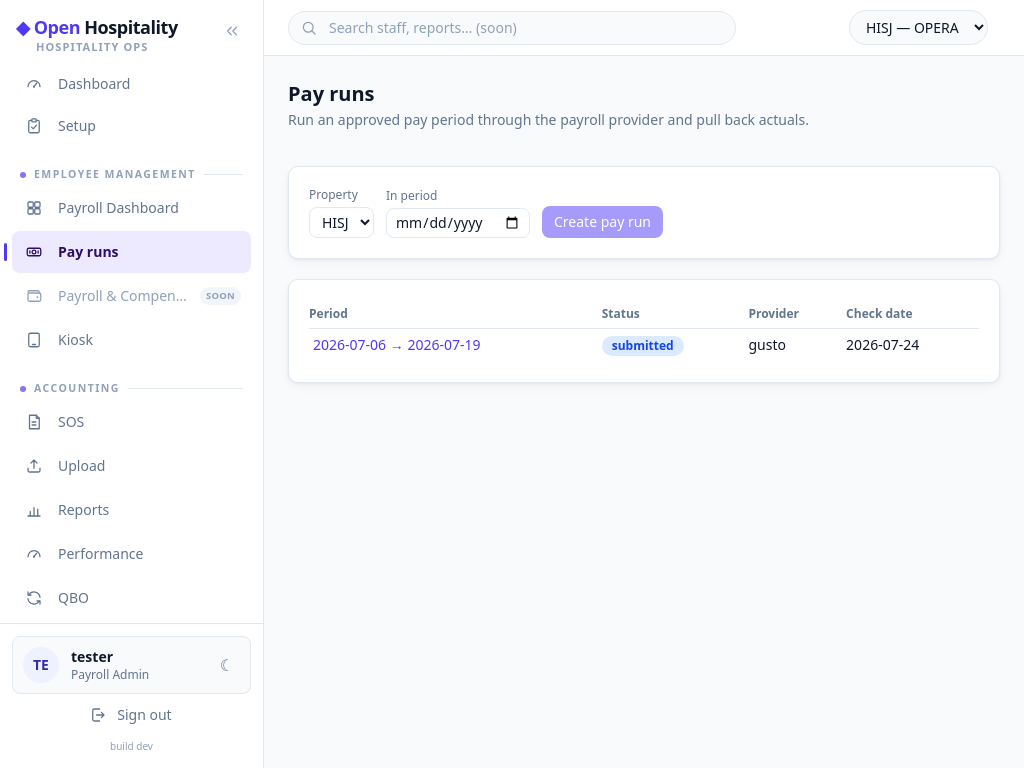
Test case: PayRunsPage › fetches results for a submitted run and renders the processed aggregates
The width and height of the screenshot is (1024, 768).
Click the button "2026-07-06 → 2026-07-19" at {"x": 397, "y": 345}, box x1=309 y1=335 x2=484 y2=355
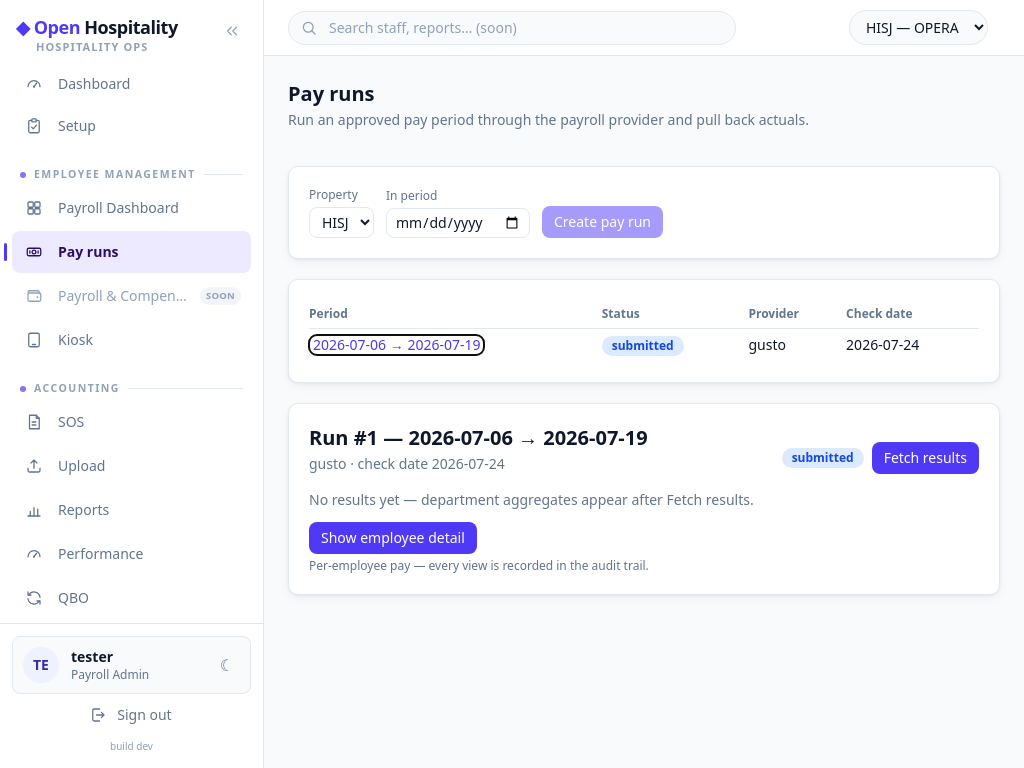
Click the button "Fetch results" at {"x": 925, "y": 458}, box x1=872 y1=442 x2=979 y2=474
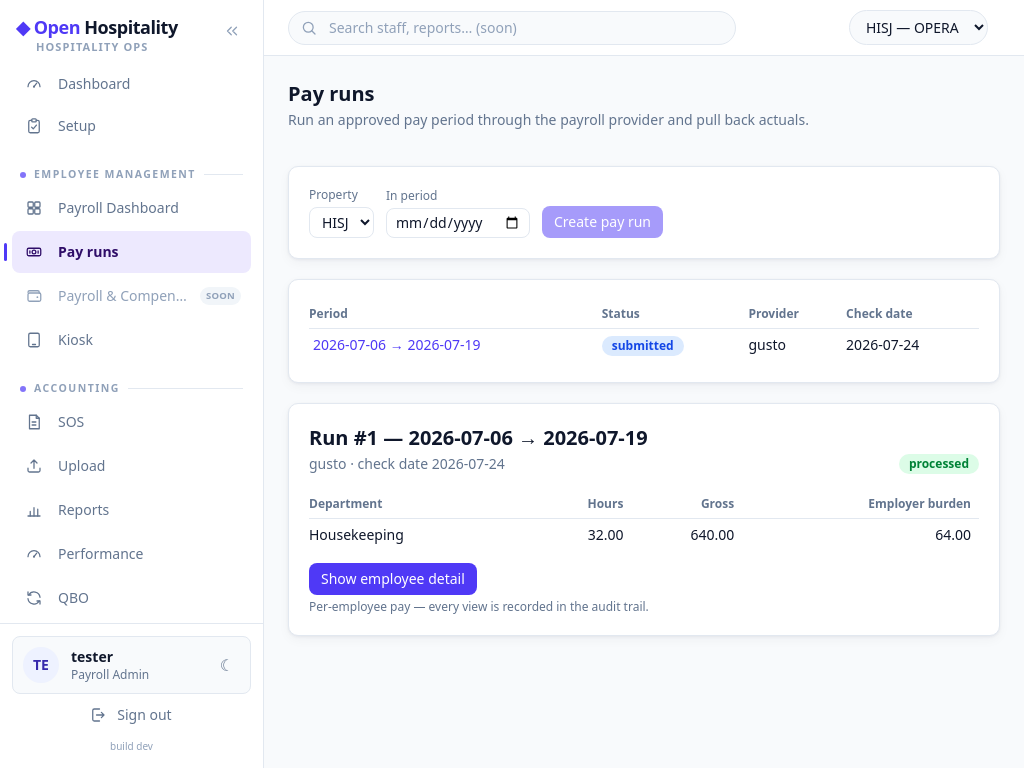
Now the text "processed" is shown, box x1=899 y1=454 x2=979 y2=474
Now the text "Housekeeping" is shown, box x1=309 y1=518 x2=538 y2=551
Now the text "640.00" is shown, box x1=631 y1=518 x2=742 y2=551
